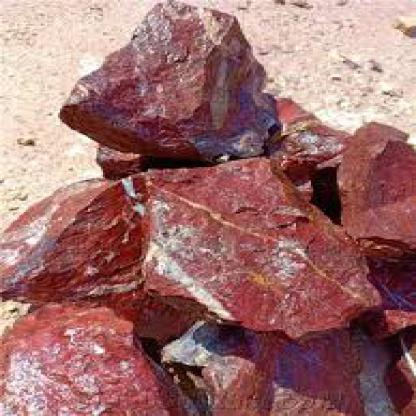Metamorphic_Marble: (122, 165, 384, 336), (47, 11, 294, 148), (0, 172, 150, 311), (0, 299, 172, 414)
